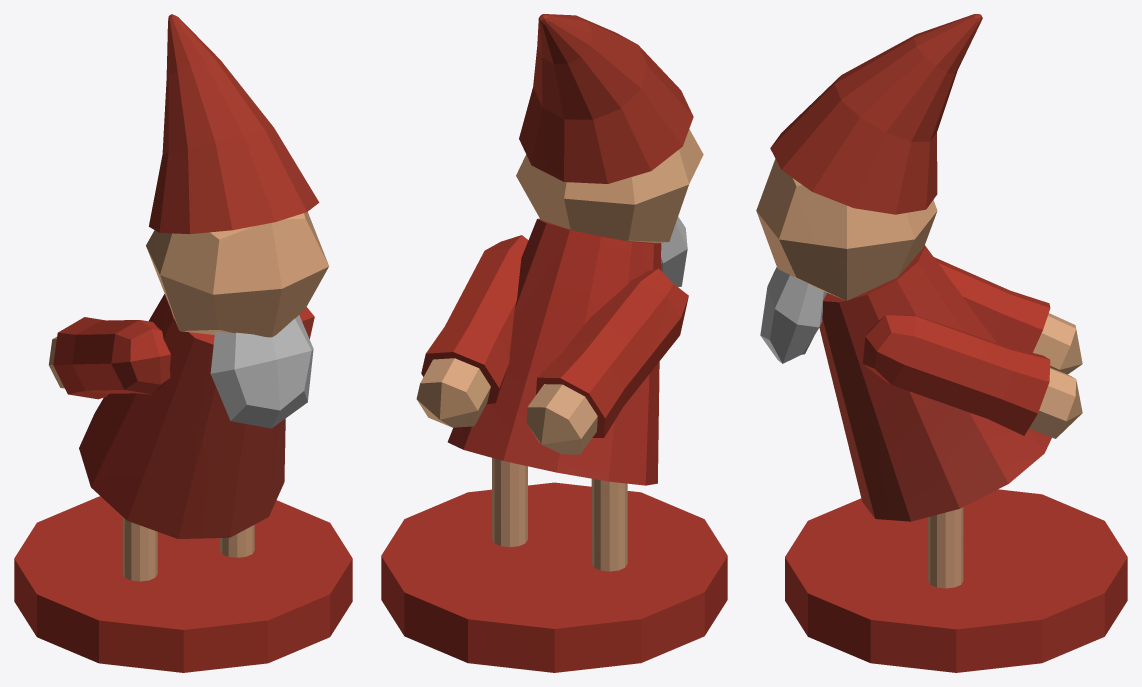
File: GnomeRojo.FBX
3 renders of one model, left to right at view 1: azimuth 30°, elevation 25°; view 2: azimuth 150°, elevation 25°; view 3: azimuth 270°, elevation 25°, orthographic. The views are drawn at different scales.
Parts seen in each view (by area): view 1: GnomeRojo; view 2: GnomeRojo; view 3: GnomeRojo.
Boxes of the visible parts, <box> form: GnomeRojo: <box>14,14,352,672</box>; GnomeRojo: <box>381,14,727,672</box>; GnomeRojo: <box>756,14,1127,672</box>.
Bounding box in the file's own units: 27.83 × 52.51 × 30.16.
